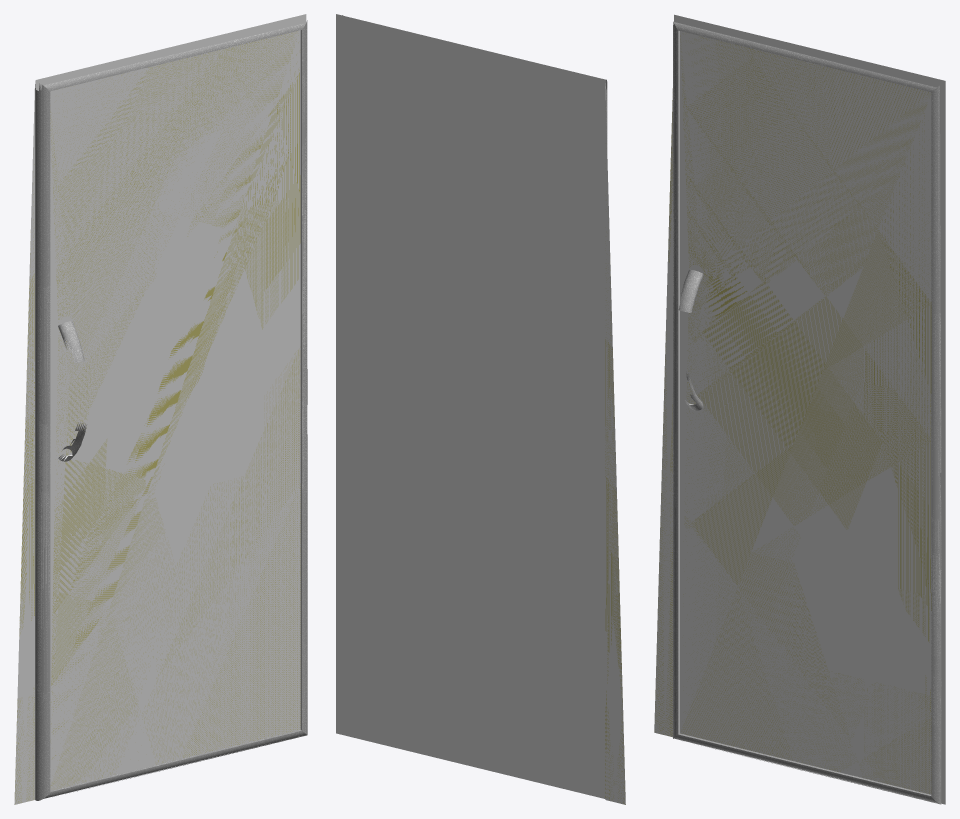
3 renders of one model, left to right at view 1: azimuth 30°, elevation 25°; view 2: azimuth 150°, elevation 25°; view 3: azimuth 330°, elevation 25°, orthographic.
Bounding box in the file's own units: 0.5901 × 1.4 × 0.0686.
